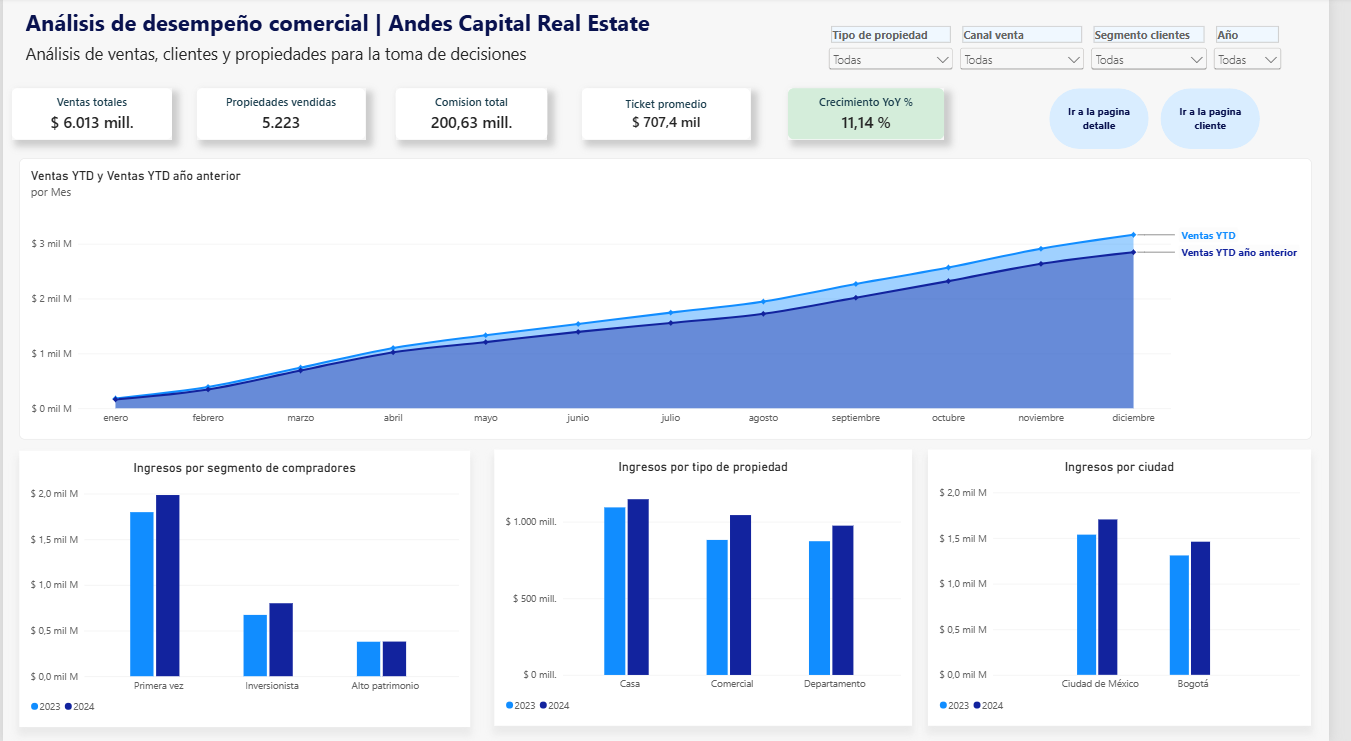

The dashboard page shown, as its layout file describes it:
{"tool":"powerbi","page":{"name":"Overview","canvas":[1920,1080],"ordinal":0},"visuals":[{"type":"cardVisual","fields":{"Data":["hecho_ventas_propiedades csv.Ingreso total"]},"box":[23.5,117.6,232,74],"z":0},{"type":"cardVisual","fields":{"Data":["hecho_ventas_propiedades csv.Comisiones totales"]},"box":[570,117.6,220.2,74.1],"z":1000},{"type":"slicer","fields":{"Values":["dim_propiedades csv.tipo_propiedad"]},"box":[1190,42.5,189.4,90.6],"z":2000},{"type":"slicer","fields":{"Values":["hecho_ventas_propiedades csv.canal_venta"]},"box":[1380,42.5,189.4,90.6],"z":3000},{"type":"slicer","fields":{"Values":["dim_clientes csv.segmento_comprador"]},"box":[1570,42.5,177,90.6],"z":4000},{"type":"clusteredColumnChart","title":"Ingresos por tipo de propiedad","fields":{"Category":["dim_propiedades csv.tipo_propiedad"],"Series":["Dim_Fecha.Año"],"Y":["hecho_ventas_propiedades csv.Ventas totales"]},"box":[457.8,638.8,519.4,441.6],"z":5000},{"type":"slicer","fields":{"Values":["Dim_Fecha.Año"]},"box":[1747.5,42.5,107,90.6],"z":6000},{"type":"clusteredColumnChart","title":"Ingresos por segmento de compradores","fields":{"Category":["dim_clientes csv.segmento_comprador"],"Series":["Dim_Fecha.Date.Variación.Jerarquía de fechas.Año"],"Y":["hecho_ventas_propiedades csv.Ventas totales"]},"box":[0,638.8,441.6,441.6],"z":7000},{"type":"cardVisual","fields":{"Data":["hecho_ventas_propiedades csv.Crecimiento YoY %"]},"box":[1129.2,117.6,226.4,74.1],"z":8000},{"type":"textbox","box":[32.5,65,741,43.2],"z":9000},{"type":"cardVisual","fields":{"Data":["hecho_ventas_propiedades csv.Ticket promedio"]},"box":[836.1,117.6,244.9,74.1],"z":10000},{"type":"cardVisual","fields":{"Data":["hecho_ventas_propiedades csv.Propiedades vendidas"]},"box":[282.3,117.6,244.9,74.1],"z":11000},{"type":"textbox","box":[32.5,15,926.2,57.6],"z":12000},{"type":"clusteredColumnChart","title":"Ingresos por ciudad","fields":{"Category":["hecho_ventas_propiedades csv.ciudad"],"Series":["Dim_Fecha.Año"],"Y":["hecho_ventas_propiedades csv.Ventas totales"]},"box":[988.1,638.8,486.8,441.6],"z":13000},{"type":"areaChart","fields":{"Category":["Dim_Fecha.Date.Variación.Jerarquía de fechas.Mes"],"Y":["hecho_ventas_propiedades csv.Ventas YTD","hecho_ventas_propiedades csv.Ventas YTD año anterior"]},"box":[21.7,219,1871.2,407.2],"z":18000},{"type":"actionButton","box":[1570.8,117.6,143,88.7],"z":19000},{"type":"actionButton","box":[1748.1,117.6,144,88],"z":20000},{"type":"clusteredColumnChart","title":"Ingresos por canal de venta","fields":{"Category":["hecho_ventas_propiedades csv.canal_venta"],"Series":["Dim_Fecha.Date.Variación.Jerarquía de fechas.Año"],"Y":["hecho_ventas_propiedades csv.Ventas totales"]},"box":[1487.5,638.8,432.5,441.6],"z":20001}]}

Visuals, with their boxes in screenshot pixels (x1, y1, x2, y2), scaled from the page's 1920x1080 canvas onto the 1351x741 screenshot:
cardVisual - hecho_ventas_propiedades csv.Ingreso total: <region>17, 81, 180, 131</region>
cardVisual - hecho_ventas_propiedades csv.Comisiones totales: <region>401, 81, 556, 132</region>
slicer - dim_propiedades csv.tipo_propiedad: <region>837, 29, 971, 91</region>
slicer - hecho_ventas_propiedades csv.canal_venta: <region>971, 29, 1104, 91</region>
slicer - dim_clientes csv.segmento_comprador: <region>1105, 29, 1229, 91</region>
"Ingresos por tipo de propiedad" clusteredColumnChart: <region>322, 438, 688, 740</region>
slicer - Dim_Fecha.Año: <region>1230, 29, 1305, 91</region>
"Ingresos por segmento de compradores" clusteredColumnChart: <region>0, 438, 311, 740</region>
cardVisual - hecho_ventas_propiedades csv.Crecimiento YoY %: <region>795, 81, 954, 132</region>
textbox: <region>23, 45, 544, 74</region>
cardVisual - hecho_ventas_propiedades csv.Ticket promedio: <region>588, 81, 761, 132</region>
cardVisual - hecho_ventas_propiedades csv.Propiedades vendidas: <region>199, 81, 371, 132</region>
textbox: <region>23, 10, 675, 50</region>
"Ingresos por ciudad" clusteredColumnChart: <region>695, 438, 1038, 740</region>
areaChart - Dim_Fecha.Date.Variación.Jerarquía de fechas.Mes x hecho_ventas_propiedades csv.Ventas YTD: <region>15, 150, 1332, 430</region>
actionButton: <region>1105, 81, 1206, 142</region>
actionButton: <region>1230, 81, 1331, 141</region>
"Ingresos por canal de venta" clusteredColumnChart: <region>1047, 438, 1350, 740</region>
